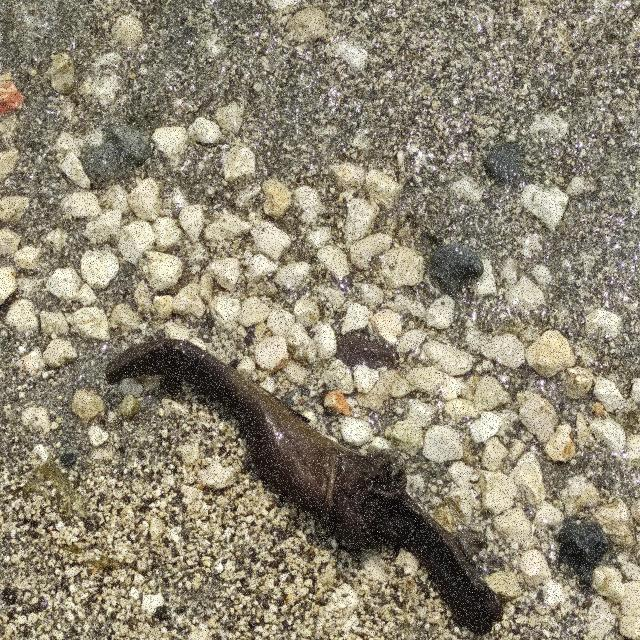wood_waste: (106, 338, 503, 634)
